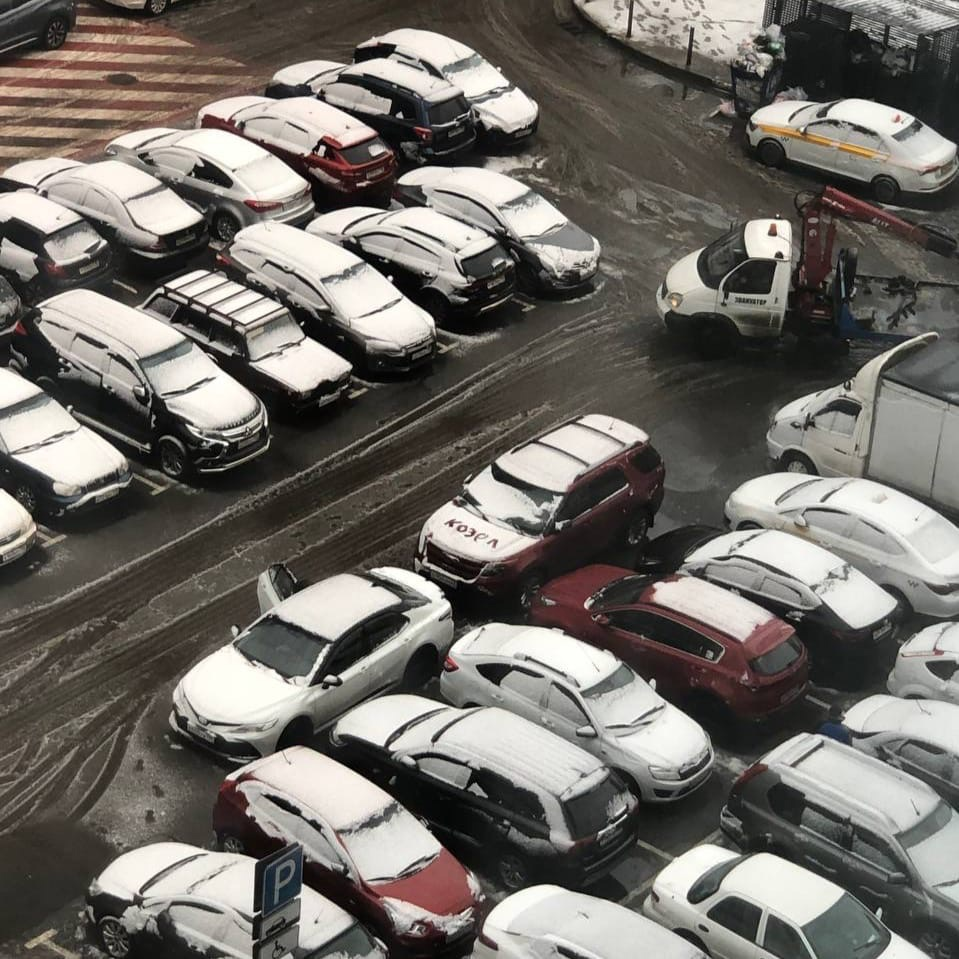Car: (329, 694, 639, 890), (211, 745, 491, 951), (169, 564, 455, 764), (720, 733, 959, 959), (656, 186, 959, 354), (439, 623, 715, 805), (10, 289, 270, 480), (413, 414, 666, 607), (526, 565, 811, 736), (85, 841, 392, 959), (766, 331, 959, 518), (643, 525, 899, 662), (724, 471, 959, 619), (218, 222, 439, 375), (644, 843, 930, 959), (140, 269, 353, 414), (391, 166, 602, 295), (106, 126, 315, 245), (307, 208, 516, 324), (0, 157, 209, 268), (196, 95, 397, 207), (265, 59, 477, 165), (745, 98, 959, 203), (353, 28, 540, 146), (0, 367, 137, 519), (465, 884, 706, 959), (0, 189, 117, 301), (841, 695, 959, 800), (887, 622, 959, 705), (0, 0, 77, 57), (0, 488, 38, 563), (0, 273, 28, 349), (95, 0, 189, 18)
